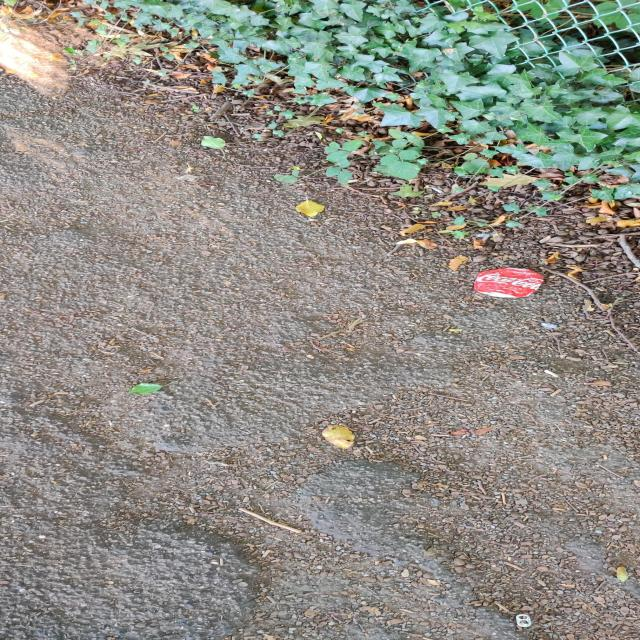litter: (478, 267, 546, 296)
